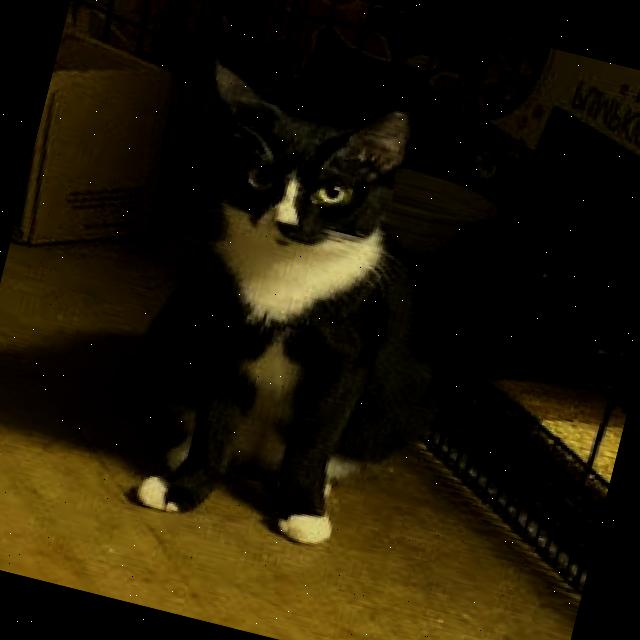domestic_short_hair_cat: (148, 51, 438, 310)
